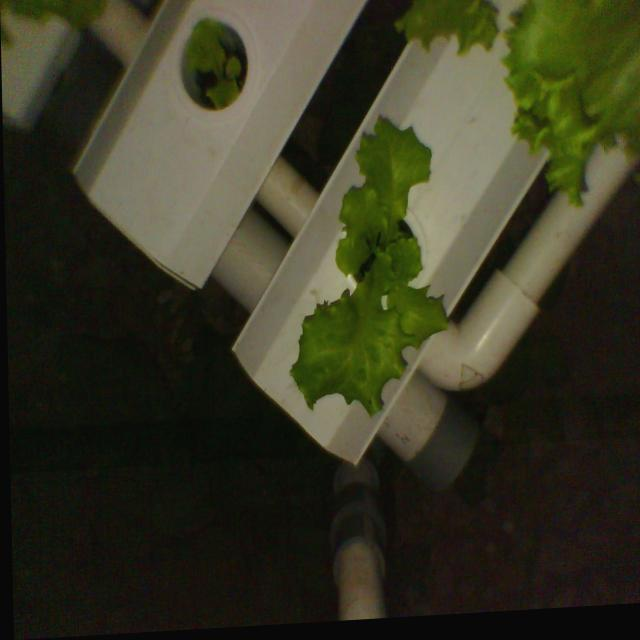FN: (280, 101, 456, 435), (181, 12, 249, 117)
